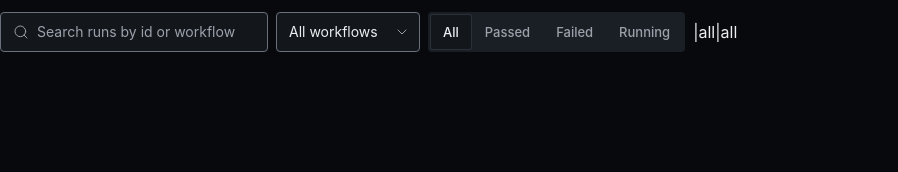
Test: FilterBar › keeps search, select and segments independent in one state owner
Type "c71" into the search field labelled "Search runs by id or workflow" at (146, 32), box 37,22 -> 255,42
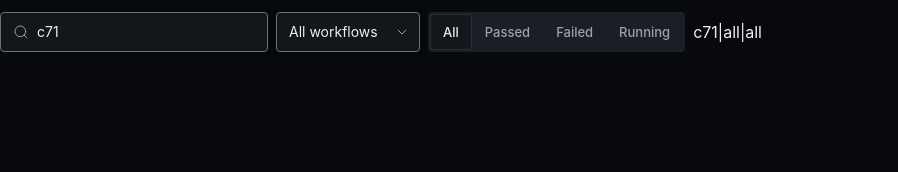
Select "code_review" in the dropdown named "Workflow" at (348, 32), box 276,12 -> 420,52
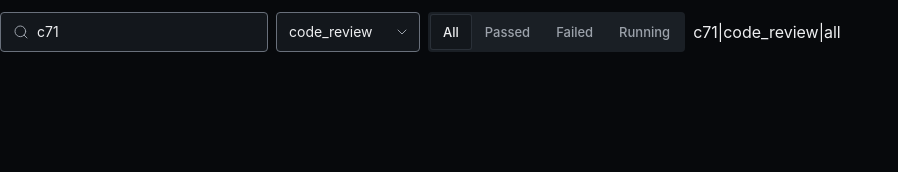
Click the button "Running" at (645, 32), box 607,15 -> 682,49
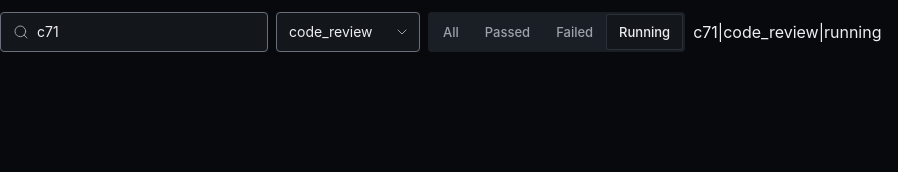
Expected: the text with test id "state" reads "c71|code_review|running", 693,22 -> 882,42
